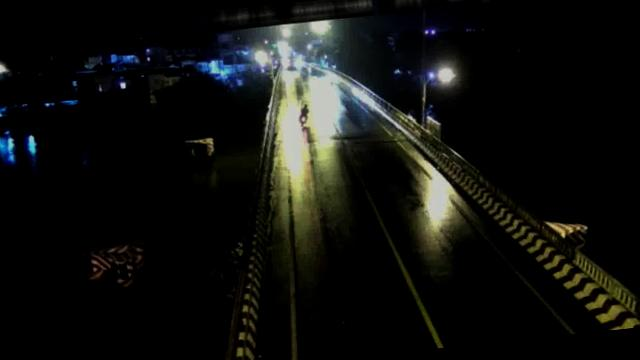Bike: (294, 100, 312, 127)
